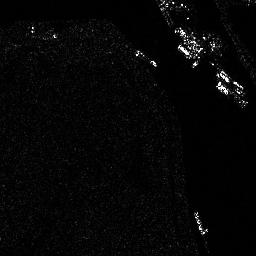ship: (133, 49, 157, 66), (194, 210, 206, 236)
